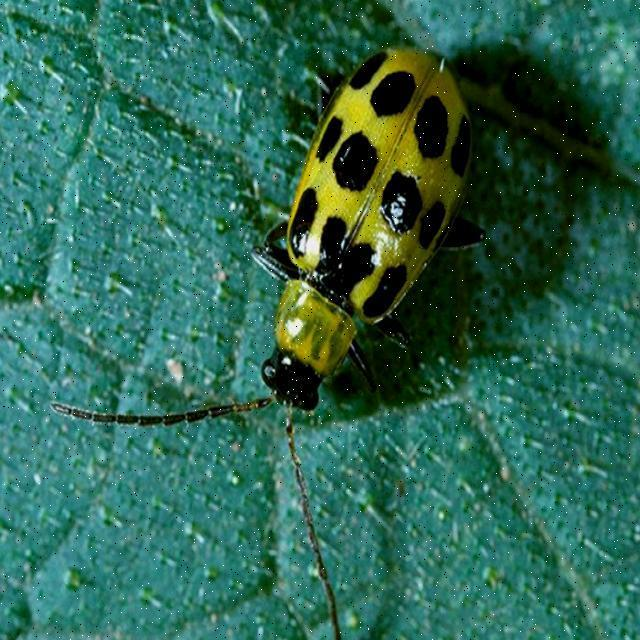gusano_verde: (59, 34, 606, 500)
